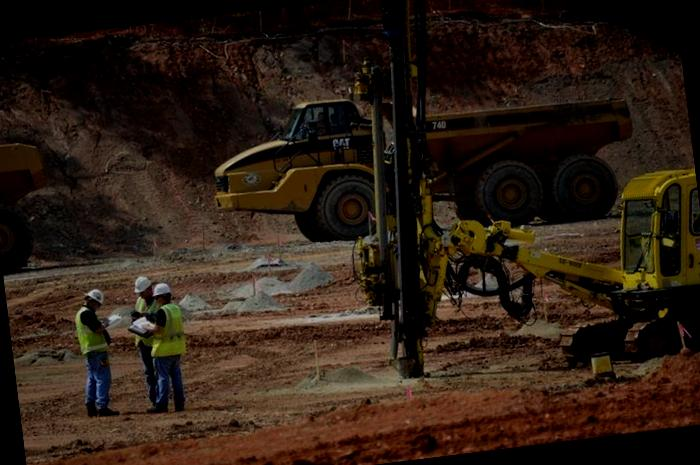helmet: (76, 282, 107, 311), (130, 272, 154, 300), (149, 280, 174, 304)
person: (65, 280, 128, 424), (140, 278, 198, 418)
